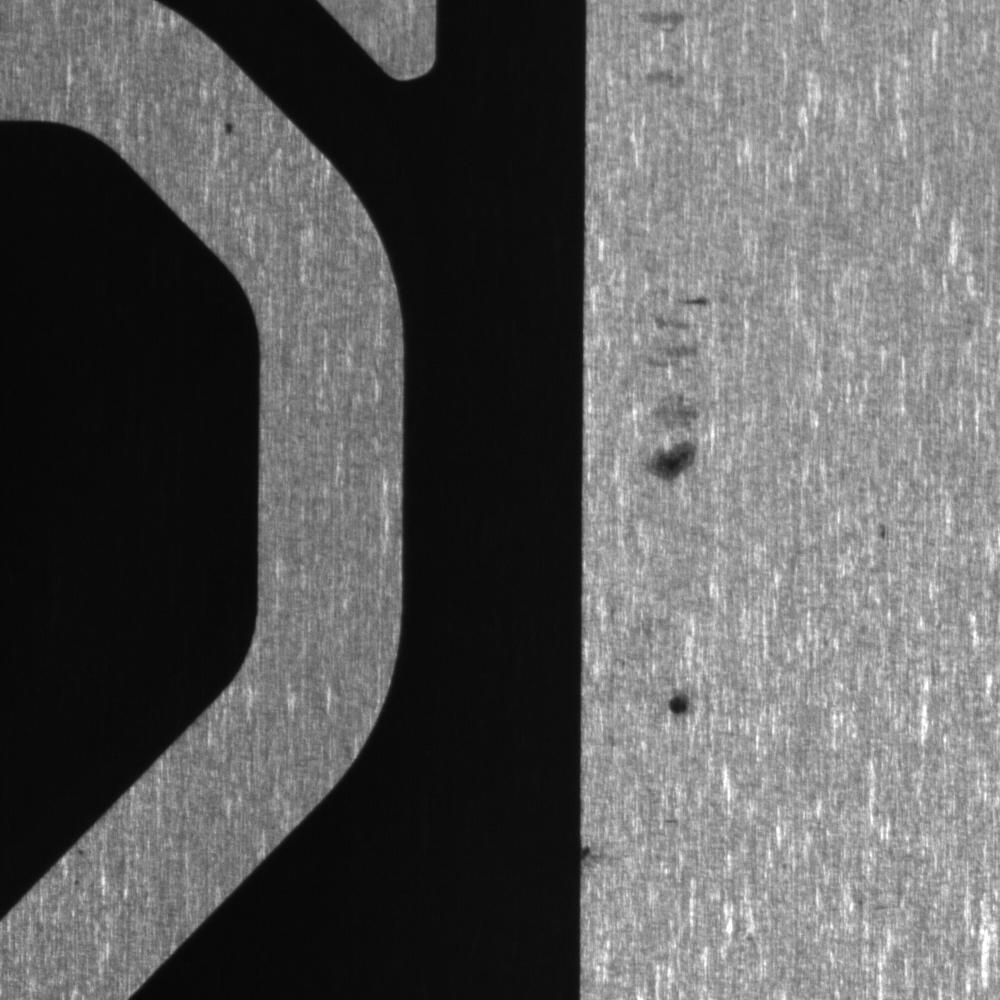Discolor: (631, 388, 724, 506), (633, 277, 736, 377), (628, 5, 697, 103), (644, 669, 713, 741)
Etching: (580, 828, 619, 889), (212, 104, 247, 146), (872, 510, 897, 545)
